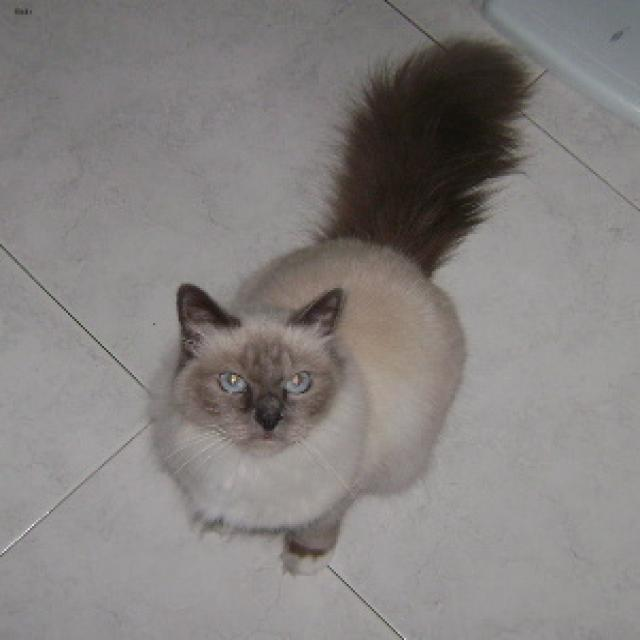Birman: (167, 281, 364, 459)
